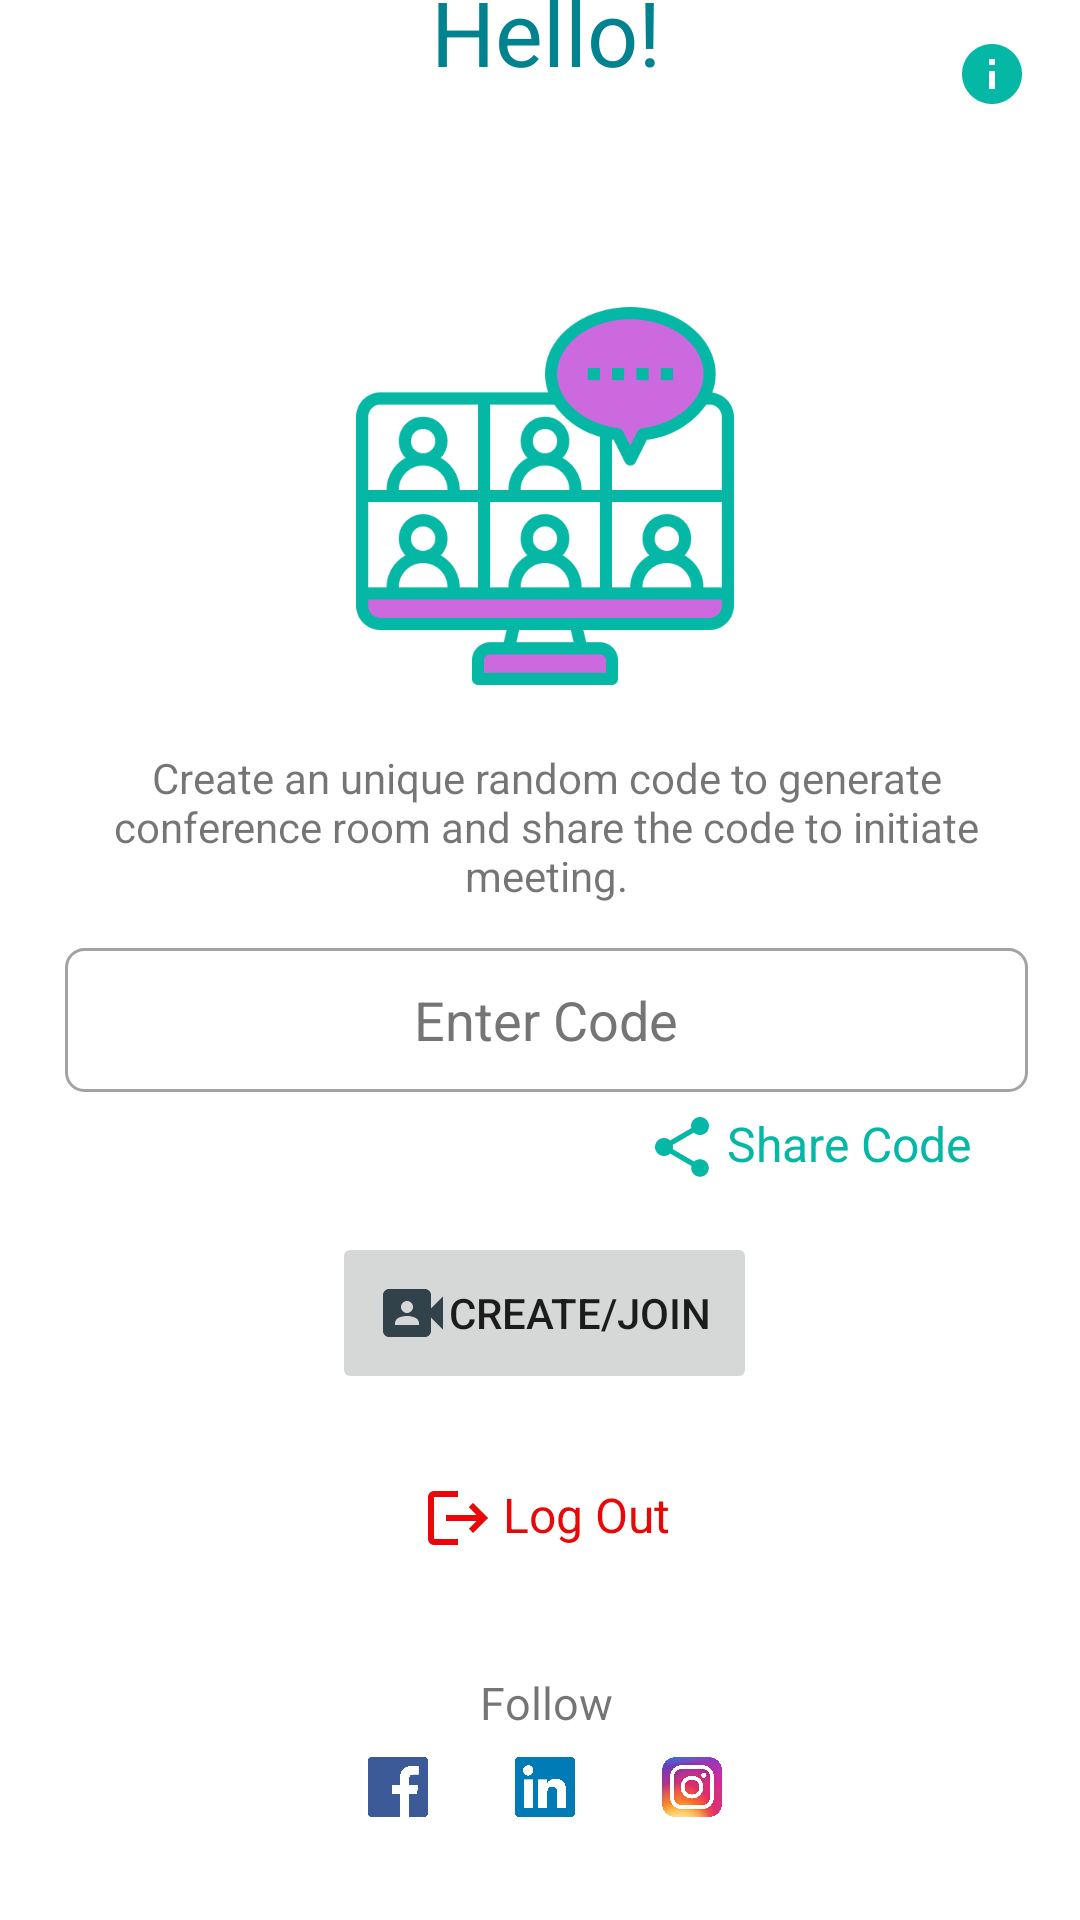

Icon bounding boxes for this 1080*1920 phone screenshot, format (x1, y1, x2, y2):
info: (962, 44, 1022, 104)
